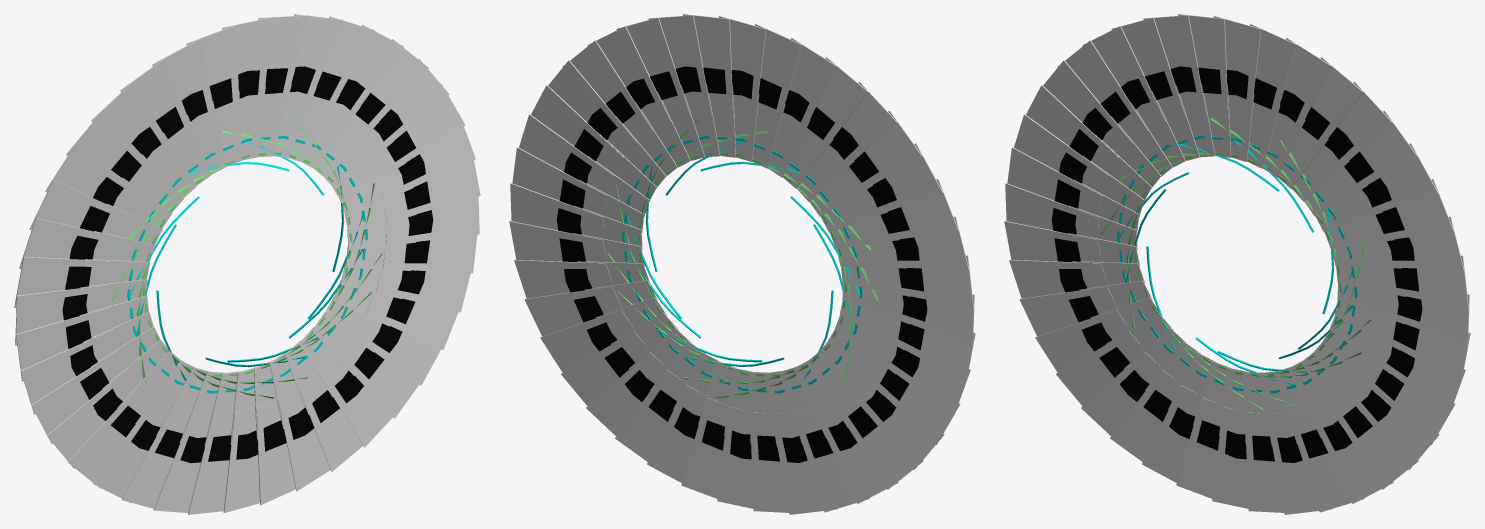
Rendered from Portal-02.fbx.
3 renders of one model, left to right at view 1: azimuth 30°, elevation 25°; view 2: azimuth 150°, elevation 25°; view 3: azimuth 330°, elevation 25°, orthographic.
Visible parts, largest first — view 1: Separador, pCube40 (×2), pCube2 (×2), pCube1 (×2), pCube39 (×2), pCube38 (×2), pCube3 (×2), pCube4 (×2), pCube20 (×2), pCube32 (×2), pCube9 (×2), pCube31 (×2) (+31 smaller); view 2: Separador, pCube12 (×2), pCube2 (×2), pCube9 (×2), pCube40 (×2), pCube18 (×2), pCube7 (×2), pCube31 (×2), pCube16 (×2), pCube8 (×2), pCube14 (×2), pCube10 (×2) (+31 smaller); view 3: Separador, pCube32 (×2), pCube31 (×2), pCube33 (×2), pCube34 (×2), pCube30 (×2), pCube2 (×2), pCube3 (×2), pCube12 (×2), pCube4 (×2), pCube1 (×2), pCube40 (×2) (+31 smaller).
Boxes of the visible parts, x1,y1,x2,y2 form: Separador: [62, 66, 433, 463]; pCube40 (×2): [258, 15, 308, 156]; pCube2 (×2): [186, 25, 241, 164]; pCube1 (×2): [222, 17, 272, 160]; pCube39 (×2): [273, 14, 342, 158]; pCube38 (×2): [289, 16, 374, 162]; pCube3 (×2): [152, 39, 226, 174]; pCube4 (×2): [120, 58, 210, 185]; pCube20 (×2): [188, 371, 240, 514]; pCube32 (×2): [344, 160, 480, 233]; pCube9 (×2): [19, 218, 155, 268]; pCube31 (×2): [347, 196, 479, 250]; Separador: [556, 66, 927, 462]; pCube12 (×2): [839, 300, 975, 382]; pCube2 (×2): [752, 23, 801, 168]; pCube9 (×2): [837, 216, 969, 269]; pCube40 (×2): [683, 14, 735, 157]; pCube18 (×2): [779, 367, 869, 512]; pCube7 (×2): [820, 143, 942, 232]; pCube31 (×2): [510, 183, 642, 249]; pCube16 (×2): [806, 353, 923, 489]; pCube8 (×2): [829, 179, 958, 248]; pCube14 (×2): [827, 330, 960, 444]; pCube10 (×2): [841, 255, 973, 308]; Separador: [1051, 66, 1422, 462]; pCube32 (×2): [1336, 255, 1468, 308]; pCube31 (×2): [1337, 283, 1469, 346]; pCube33 (×2): [1333, 216, 1464, 269]; pCube34 (×2): [1324, 179, 1453, 248]; pCube30 (×2): [1334, 300, 1470, 382]; pCube2 (×2): [1178, 14, 1230, 157]; pCube3 (×2): [1143, 15, 1214, 157]; pCube12 (×2): [1004, 221, 1140, 266]; pCube4 (×2): [1111, 17, 1199, 160]; pCube1 (×2): [1213, 16, 1261, 161]; pCube40 (×2): [1247, 23, 1296, 168].
Size of the model in its own units: 10034 by 10034 by 81.9.
